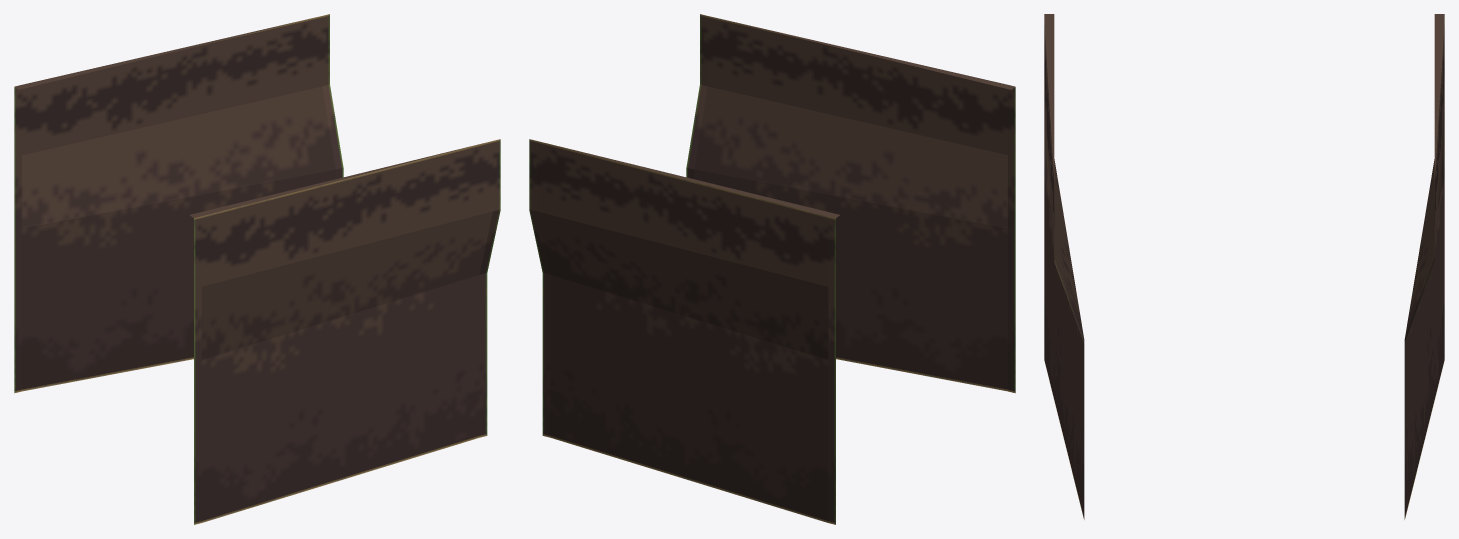
File: Base_Transition.obj
3 renders of one model, left to right at view 1: azimuth 30°, elevation 25°; view 2: azimuth 150°, elevation 25°; view 3: azimuth 270°, elevation 25°, orthographic. The views are drawn at different scales.
Visible parts, largest first — view 1: Base_Transition_Cube.003; view 2: Base_Transition_Cube.003; view 3: Base_Transition_Cube.003.
Part boxes in pixels (x1,y1,x2,y2): Base_Transition_Cube.003: (14,14,500,524); Base_Transition_Cube.003: (529,14,1015,524); Base_Transition_Cube.003: (1044,14,1444,519).
Bounding box in the file's own units: 2 × 1.88 × 2.
